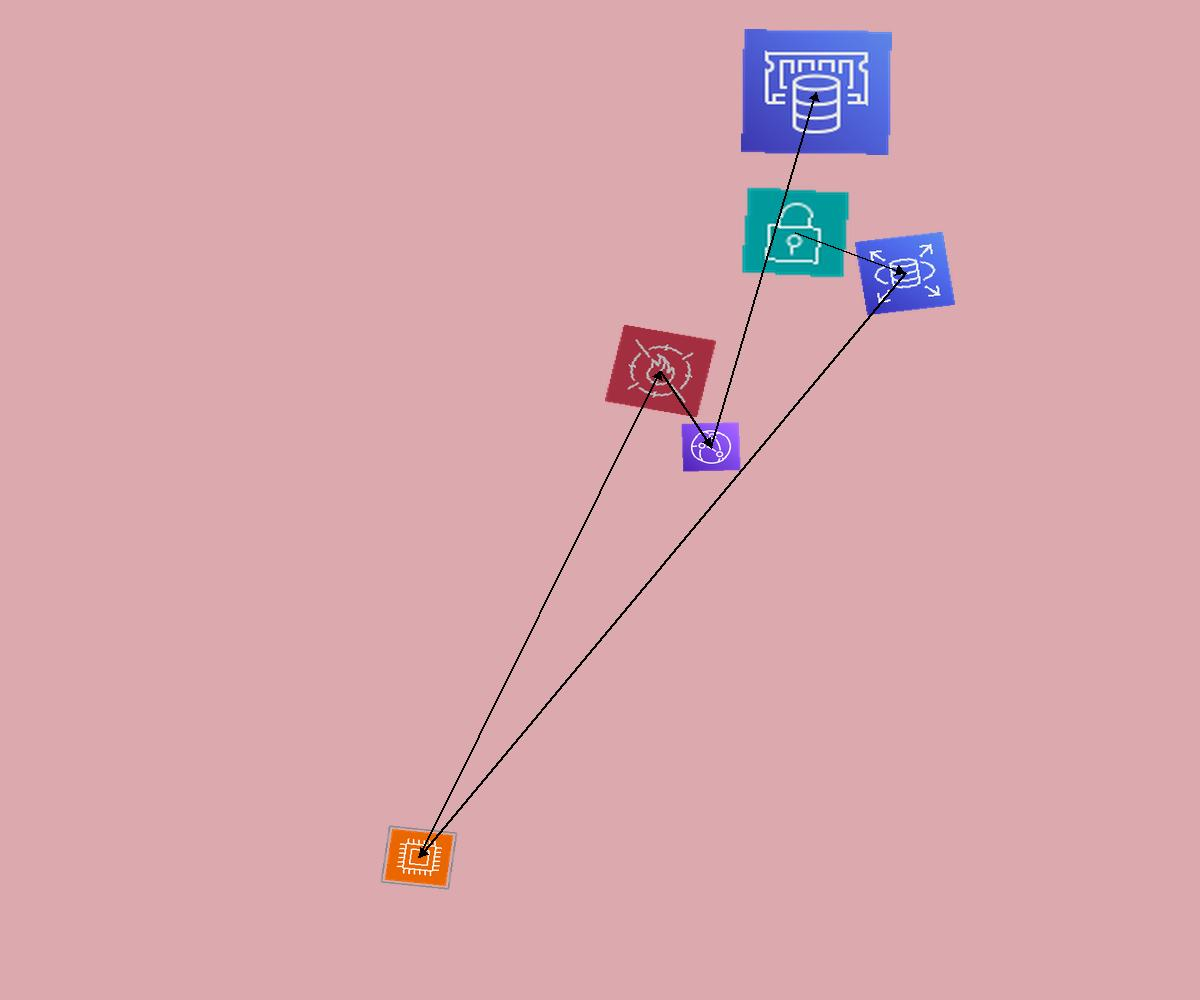AWS-Category_Compute: (380, 825, 458, 890)
AWS-CloudFront: (681, 422, 741, 472)
AWS-ElastiCache: (741, 29, 892, 155)
AWS-Private-subnet: (740, 186, 851, 279)
AWS-RDS: (854, 231, 956, 316)
AWS-WAF: (604, 324, 717, 418)
